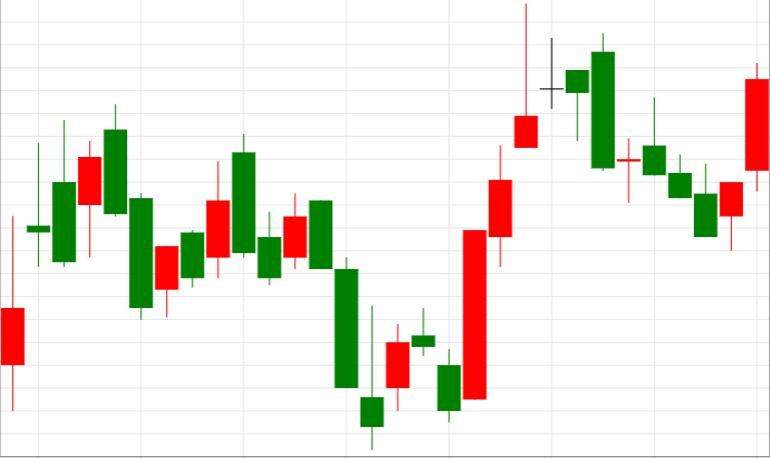shooting_star_fall: (437, 4, 538, 424)
